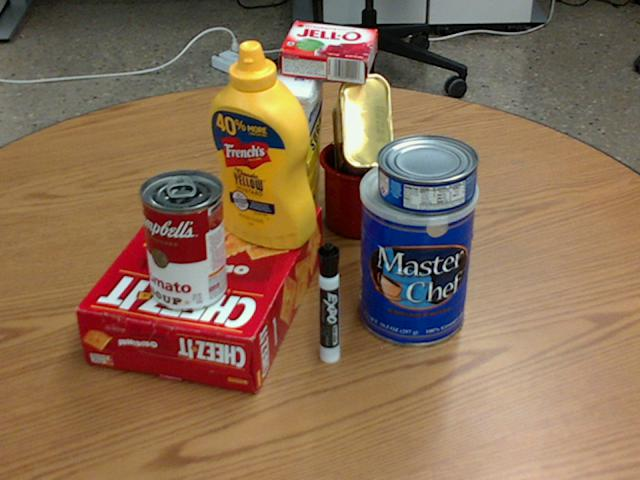cracker_box: (77, 189, 323, 394)
gelatin_box: (277, 22, 377, 83)
large_marker: (318, 242, 340, 363)
master_chef_can: (357, 156, 476, 345)
mug: (321, 135, 428, 237)
mustard_bottle: (207, 40, 315, 247)
potted_meat_can: (331, 75, 393, 190)
sugar_box: (270, 54, 323, 244)
tomato_soup_can: (139, 169, 227, 310)
tuna_fish_can: (376, 134, 478, 213)
